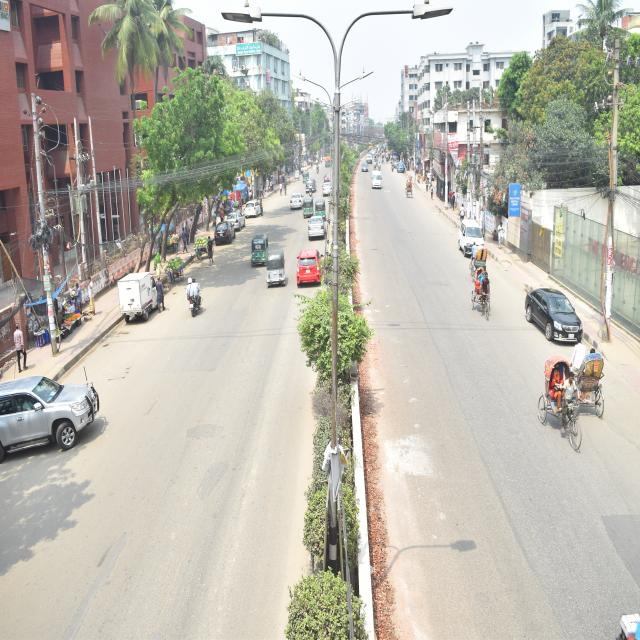car: (0, 342, 131, 472), (513, 266, 601, 364), (450, 210, 508, 264), (299, 244, 329, 299), (210, 216, 242, 258), (303, 206, 333, 248), (222, 198, 252, 239), (246, 191, 274, 226), (288, 189, 310, 216), (369, 162, 384, 195), (301, 175, 318, 202), (356, 155, 372, 179), (323, 175, 335, 205)
motorbike: (182, 269, 206, 332)
pickup-van: (102, 259, 164, 333)
truck: (319, 146, 338, 175)
